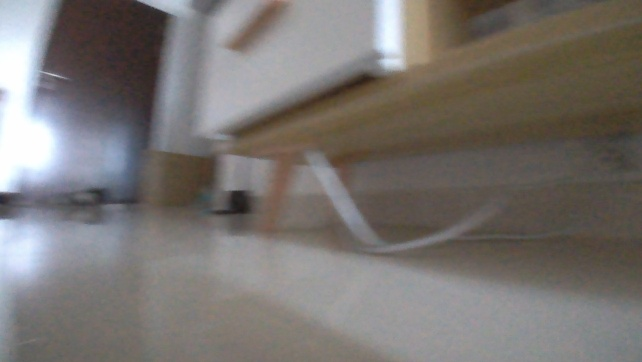wire: (460, 228, 561, 246)
